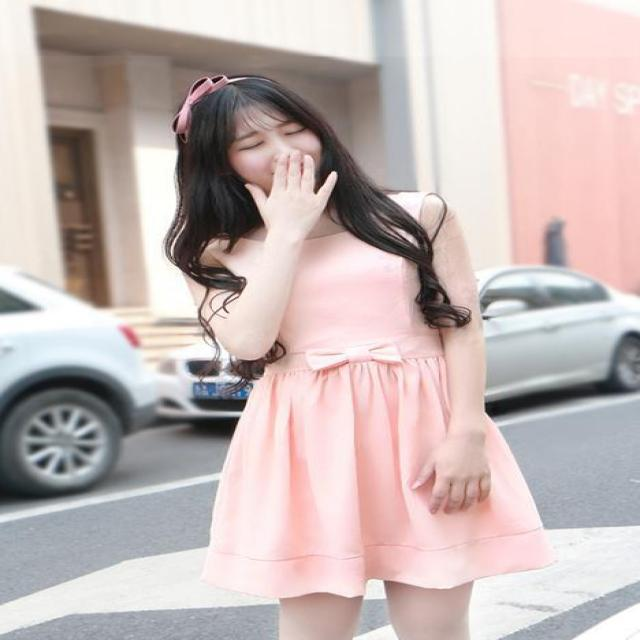short-sleeve-dress: (174, 220, 537, 605)
